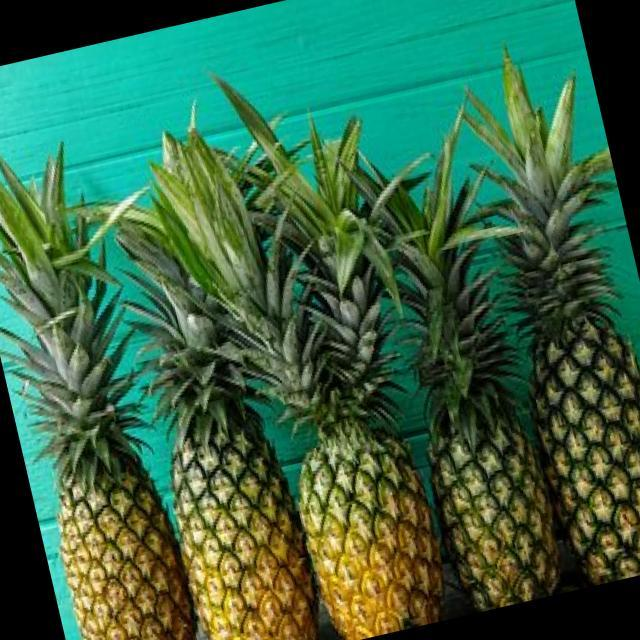PINEAPLE: (228, 163, 456, 640), (0, 144, 207, 640), (362, 145, 570, 615), (111, 196, 327, 640), (471, 94, 640, 587)
